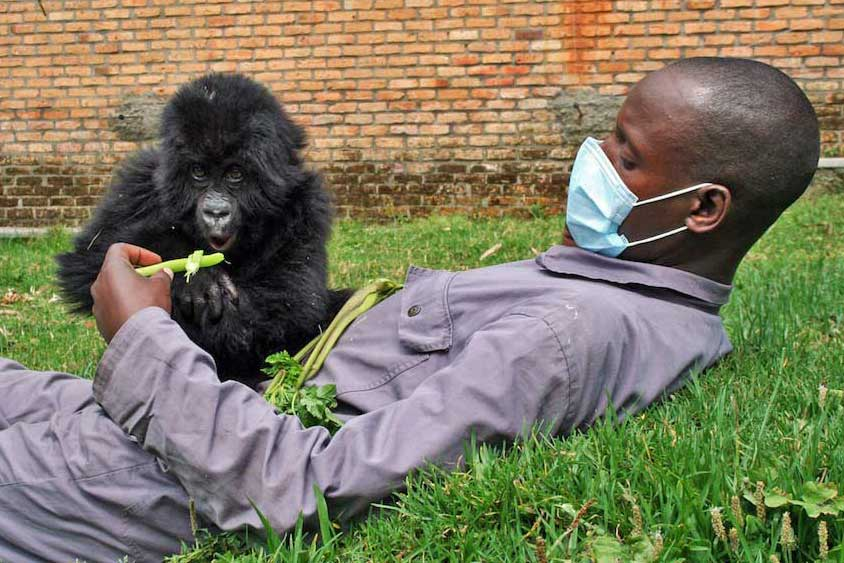Goriila: (89, 70, 360, 341)
